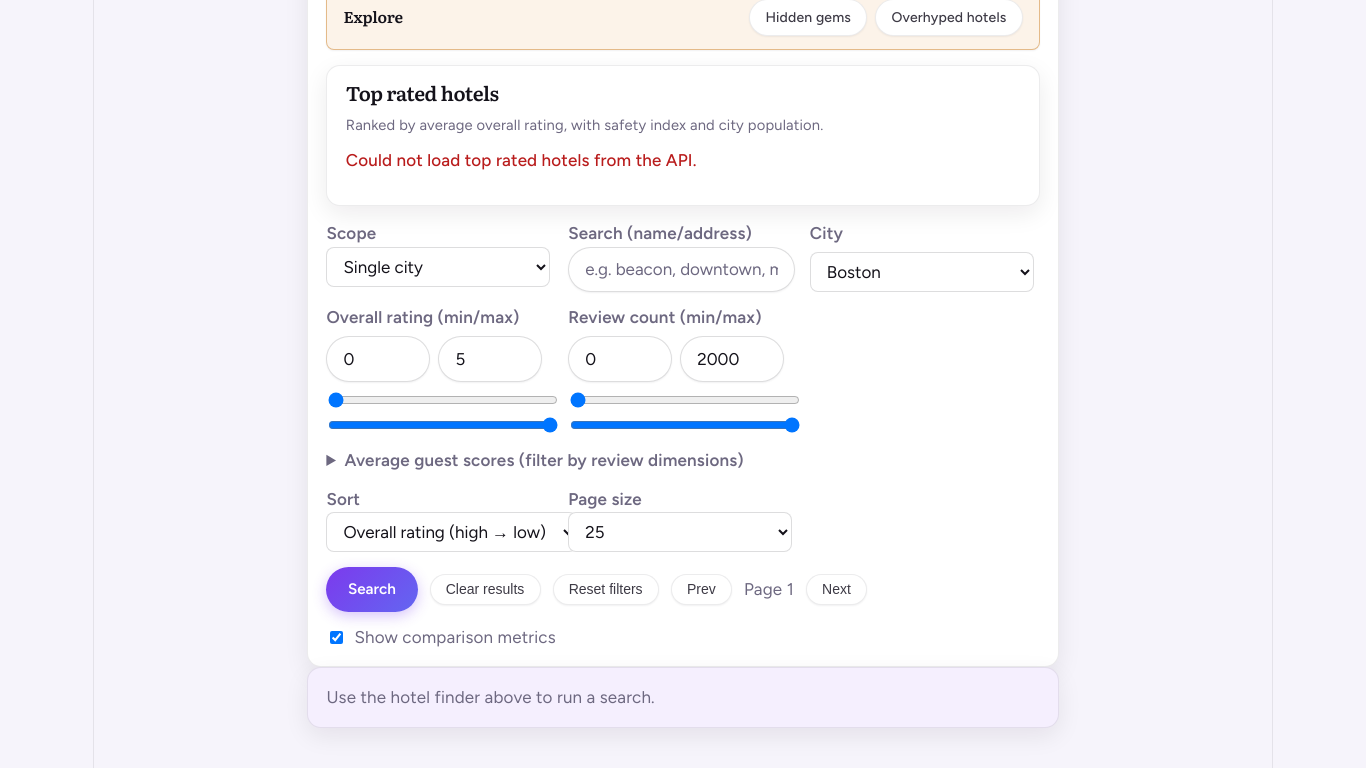
Hotels page › falls back to mock hotels on API failure
This screenshot has width=1366, height=768.
(page scrolled)
Step 1. Click the button "Search" → (372, 589), box top-left (326, 566), bottom-right (418, 612)
(page scrolled)
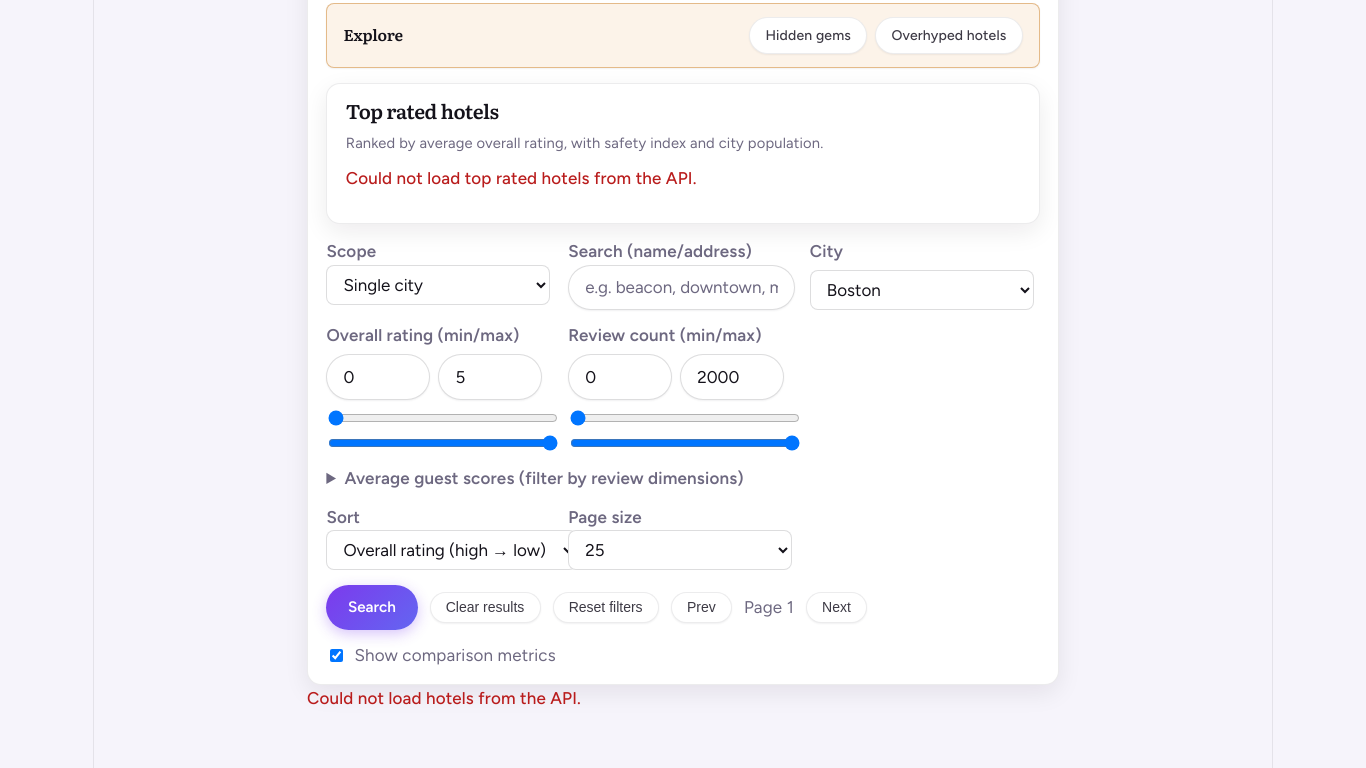
Expected: the text "Could not load hotels from the API." is shown, top-left (307, 688), bottom-right (581, 708)
